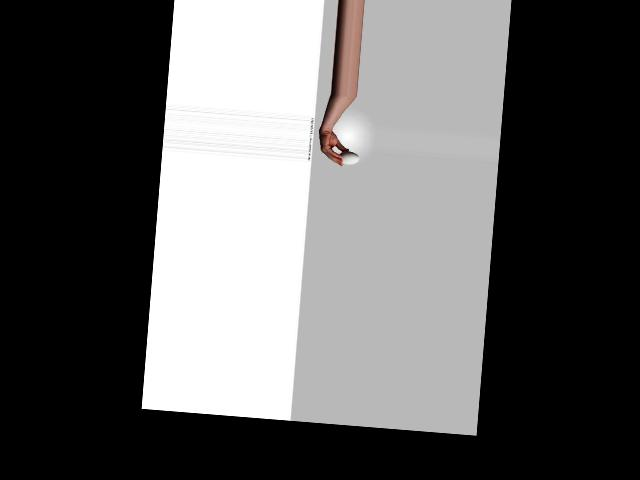egg: (338, 150, 359, 165)
